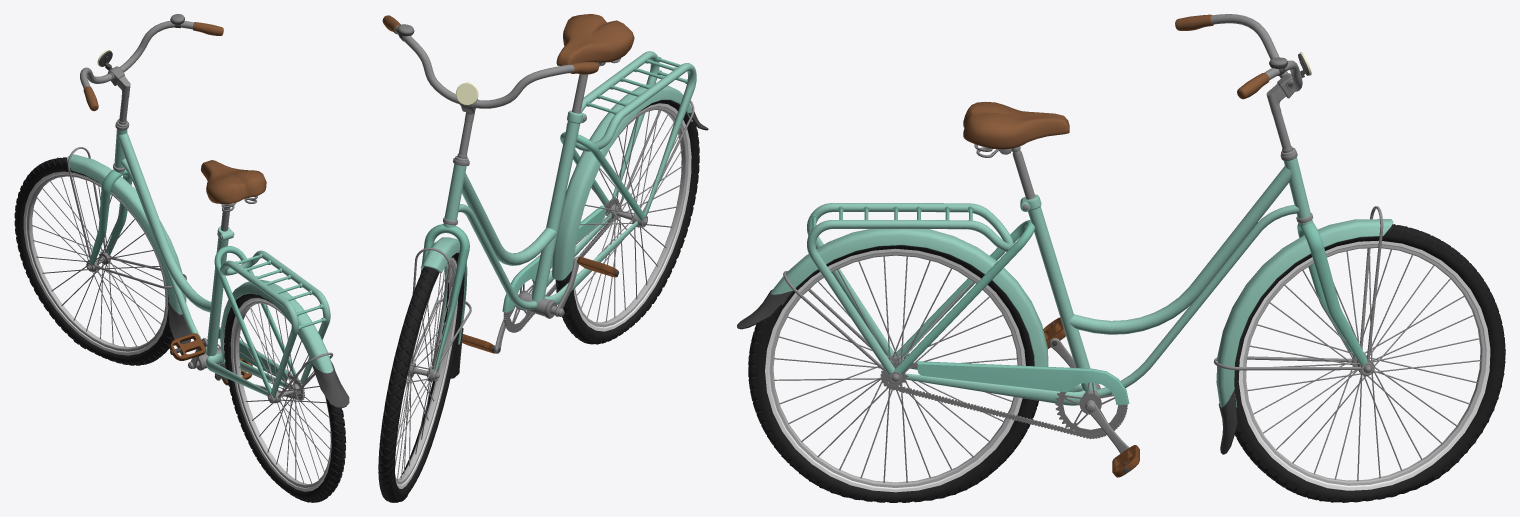
The model's file is bircylec_adjusted.fbx.
3 renders of one model, left to right at view 1: azimuth 30°, elevation 25°; view 2: azimuth 150°, elevation 25°; view 3: azimuth 270°, elevation 25°, orthographic. The views are drawn at different scales.
Parts seen in each view (by area): view 1: polySurface1549; view 2: polySurface1549; view 3: polySurface1549.
Boxes of the visible parts, x1,y1,x2,y2 form: polySurface1549: (14, 14, 349, 502); polySurface1549: (378, 14, 708, 502); polySurface1549: (737, 14, 1505, 502).
Bounding box in the file's own units: 13.03 × 28.23 × 42.36.
